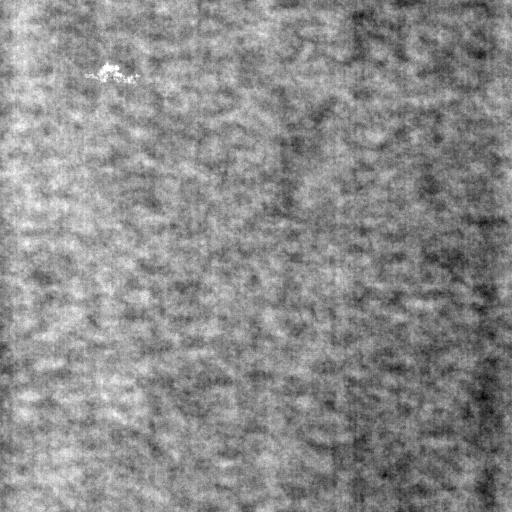DefectTypeA: (95, 59, 140, 87)
